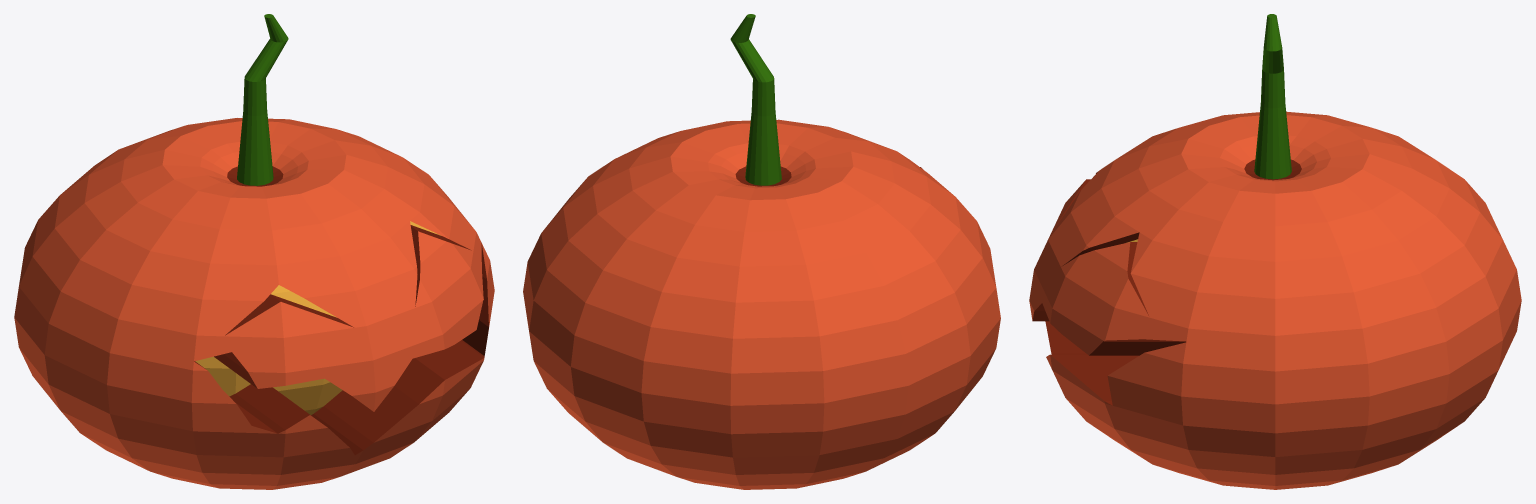
File: abobora2.fbx
3 views of the same model, side by side, from view 1: azimuth 30°, elevation 25°; view 2: azimuth 150°, elevation 25°; view 3: azimuth 270°, elevation 25° (orthographic). The views are drawn at different scales.
Parts seen in each view (by area): view 1: Sphere; view 2: Sphere; view 3: Sphere.
Part boxes in pixels (bbox=[...]): Sphere: bbox=[14, 14, 494, 489]; Sphere: bbox=[523, 14, 1000, 489]; Sphere: bbox=[1029, 14, 1521, 489].
Size of the model in its own units: 540 by 543 by 540.
